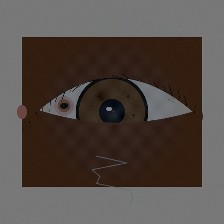foreign_body_visible: (96, 129, 136, 161)
